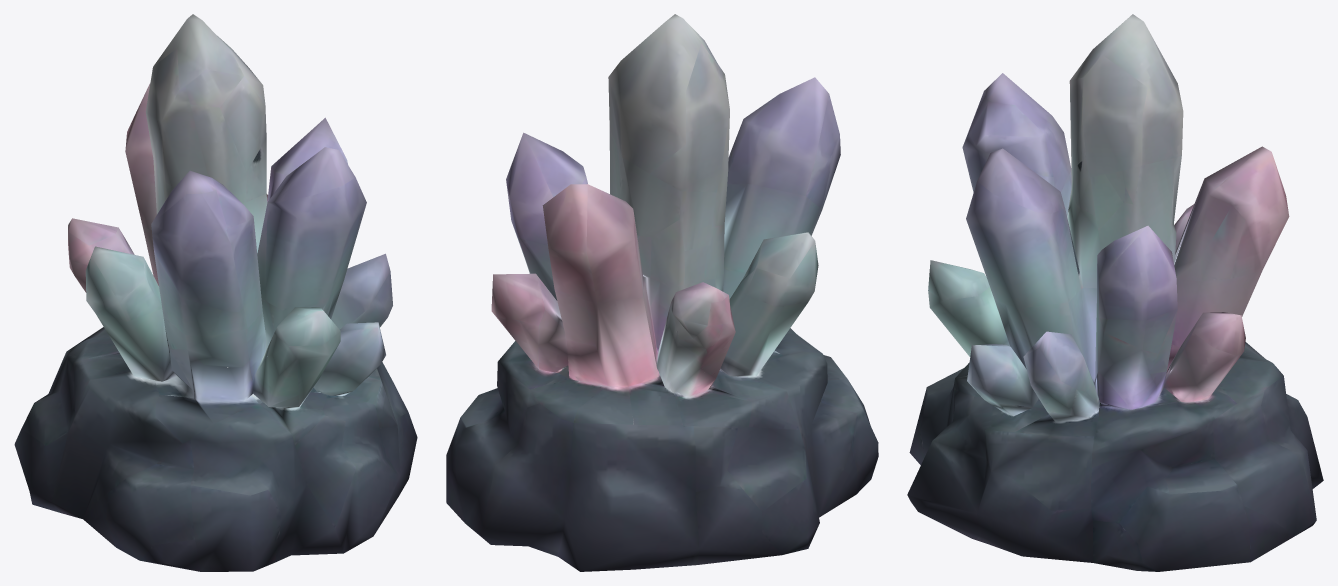
Rendered from crystal-cluster.glb.
3 renders of one model, left to right at view 1: azimuth 30°, elevation 25°; view 2: azimuth 150°, elevation 25°; view 3: azimuth 270°, elevation 25°, orthographic. The views are drawn at different scales.
Visible parts, largest first — view 1: tripo_node_aead2906-380a-4210-bf4a-7c6f1a3cfd81; view 2: tripo_node_aead2906-380a-4210-bf4a-7c6f1a3cfd81; view 3: tripo_node_aead2906-380a-4210-bf4a-7c6f1a3cfd81.
Boxes of the visible parts, box(x1,y1,x2,y2) form: tripo_node_aead2906-380a-4210-bf4a-7c6f1a3cfd81: box(14, 14, 417, 571); tripo_node_aead2906-380a-4210-bf4a-7c6f1a3cfd81: box(446, 14, 878, 571); tripo_node_aead2906-380a-4210-bf4a-7c6f1a3cfd81: box(907, 14, 1323, 571).
Size of the model in its own units: 0.7301 by 0.9761 by 0.7906.
Materials: 1 (1 with a texture image).
